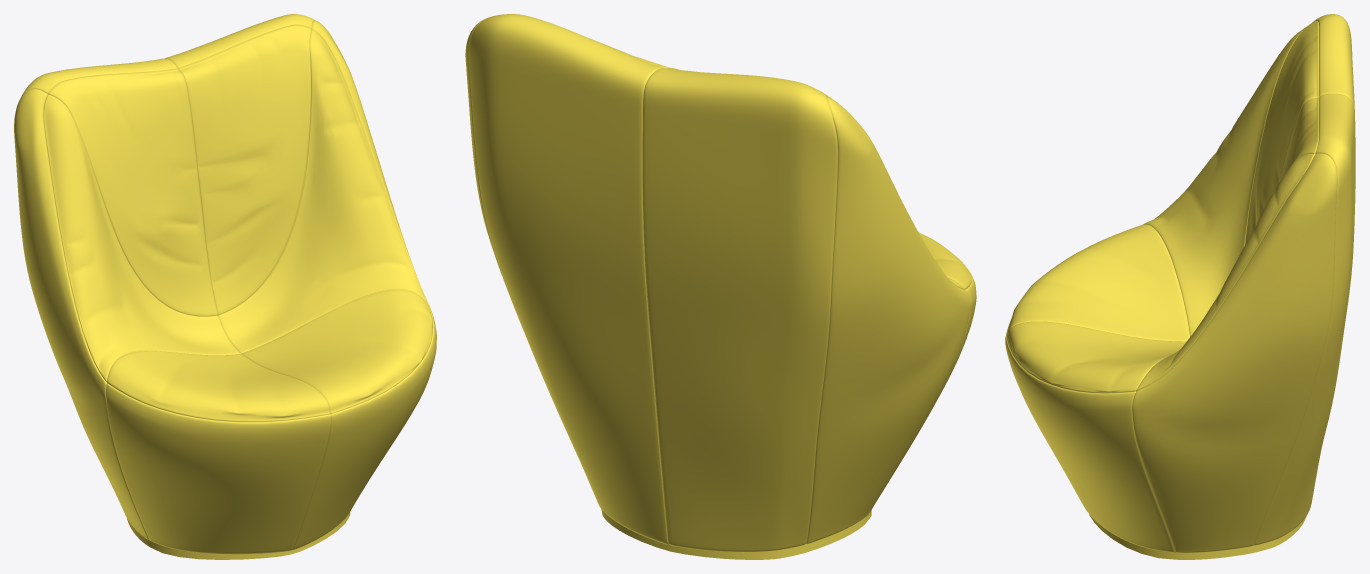
File: modernarmchair.glb
The picture shows the model from 3 angles, left to right: view 1: azimuth 30°, elevation 25°; view 2: azimuth 150°, elevation 25°; view 3: azimuth 270°, elevation 25°; orthographic projection. The views are drawn at different scales.
Visible parts, largest first — view 1: c41b4b0c-ae62-403d-bf5f-8a4570bde19f; view 2: c41b4b0c-ae62-403d-bf5f-8a4570bde19f; view 3: c41b4b0c-ae62-403d-bf5f-8a4570bde19f.
Part boxes in pixels (box(x1,y1,x2,y2)): c41b4b0c-ae62-403d-bf5f-8a4570bde19f: box(14, 14, 436, 559); c41b4b0c-ae62-403d-bf5f-8a4570bde19f: box(465, 14, 976, 559); c41b4b0c-ae62-403d-bf5f-8a4570bde19f: box(1005, 14, 1355, 559).
Bounding box in the file's own units: 0.8452 × 1 × 0.7331.
